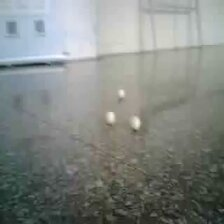w: (129, 117, 141, 130), (104, 111, 115, 124), (117, 89, 127, 100)
